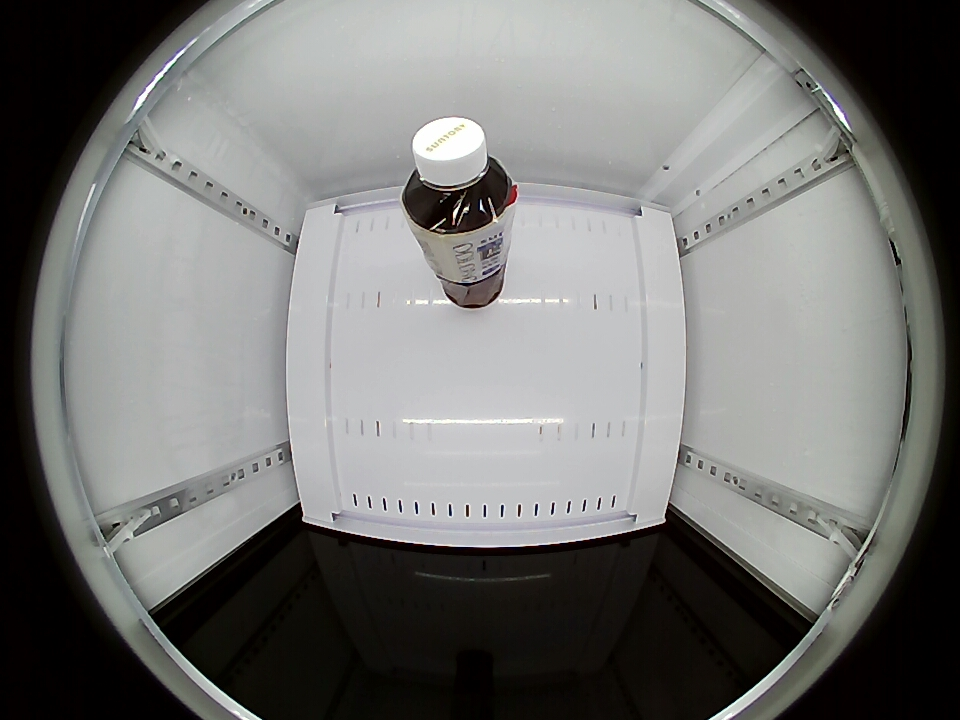wulongcha: (401, 115, 516, 234)
